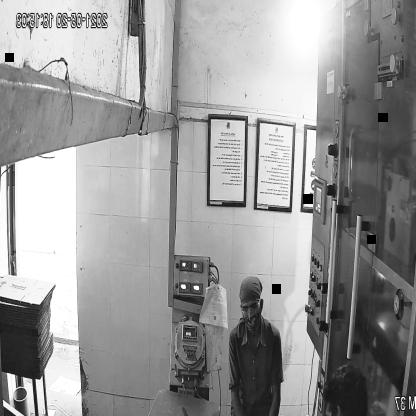goggles: (237, 298, 265, 322)
